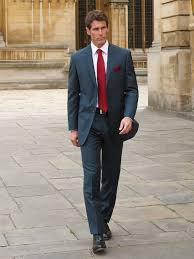F_M_suit jacket: (60, 38, 144, 154)
F_dress pants: (75, 121, 128, 242)
F_tie: (94, 48, 112, 118)
